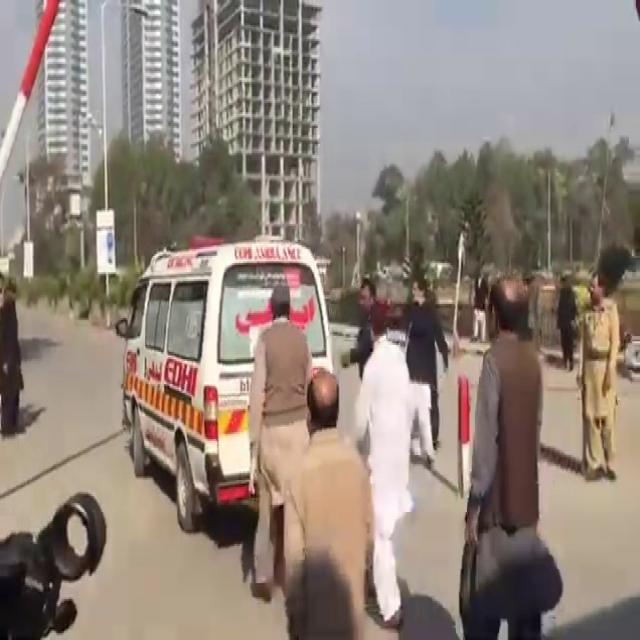ambulance: (114, 222, 358, 463)
